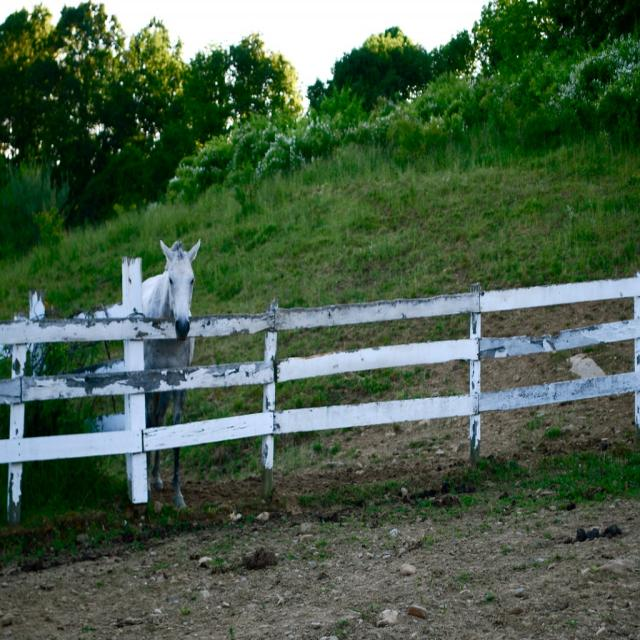Horse: (143, 239, 201, 508)
